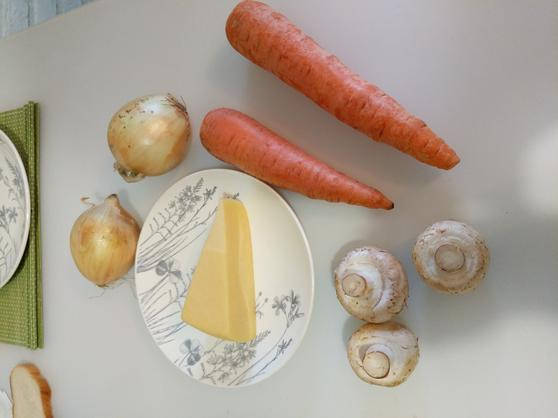carrot: (224, 1, 468, 172), (200, 105, 400, 215)
champignon: (333, 242, 421, 324), (342, 318, 423, 391), (418, 218, 490, 288)
cheese: (181, 194, 263, 345)
onion: (68, 191, 142, 291), (111, 93, 195, 181)
white_bread: (3, 362, 60, 418)
